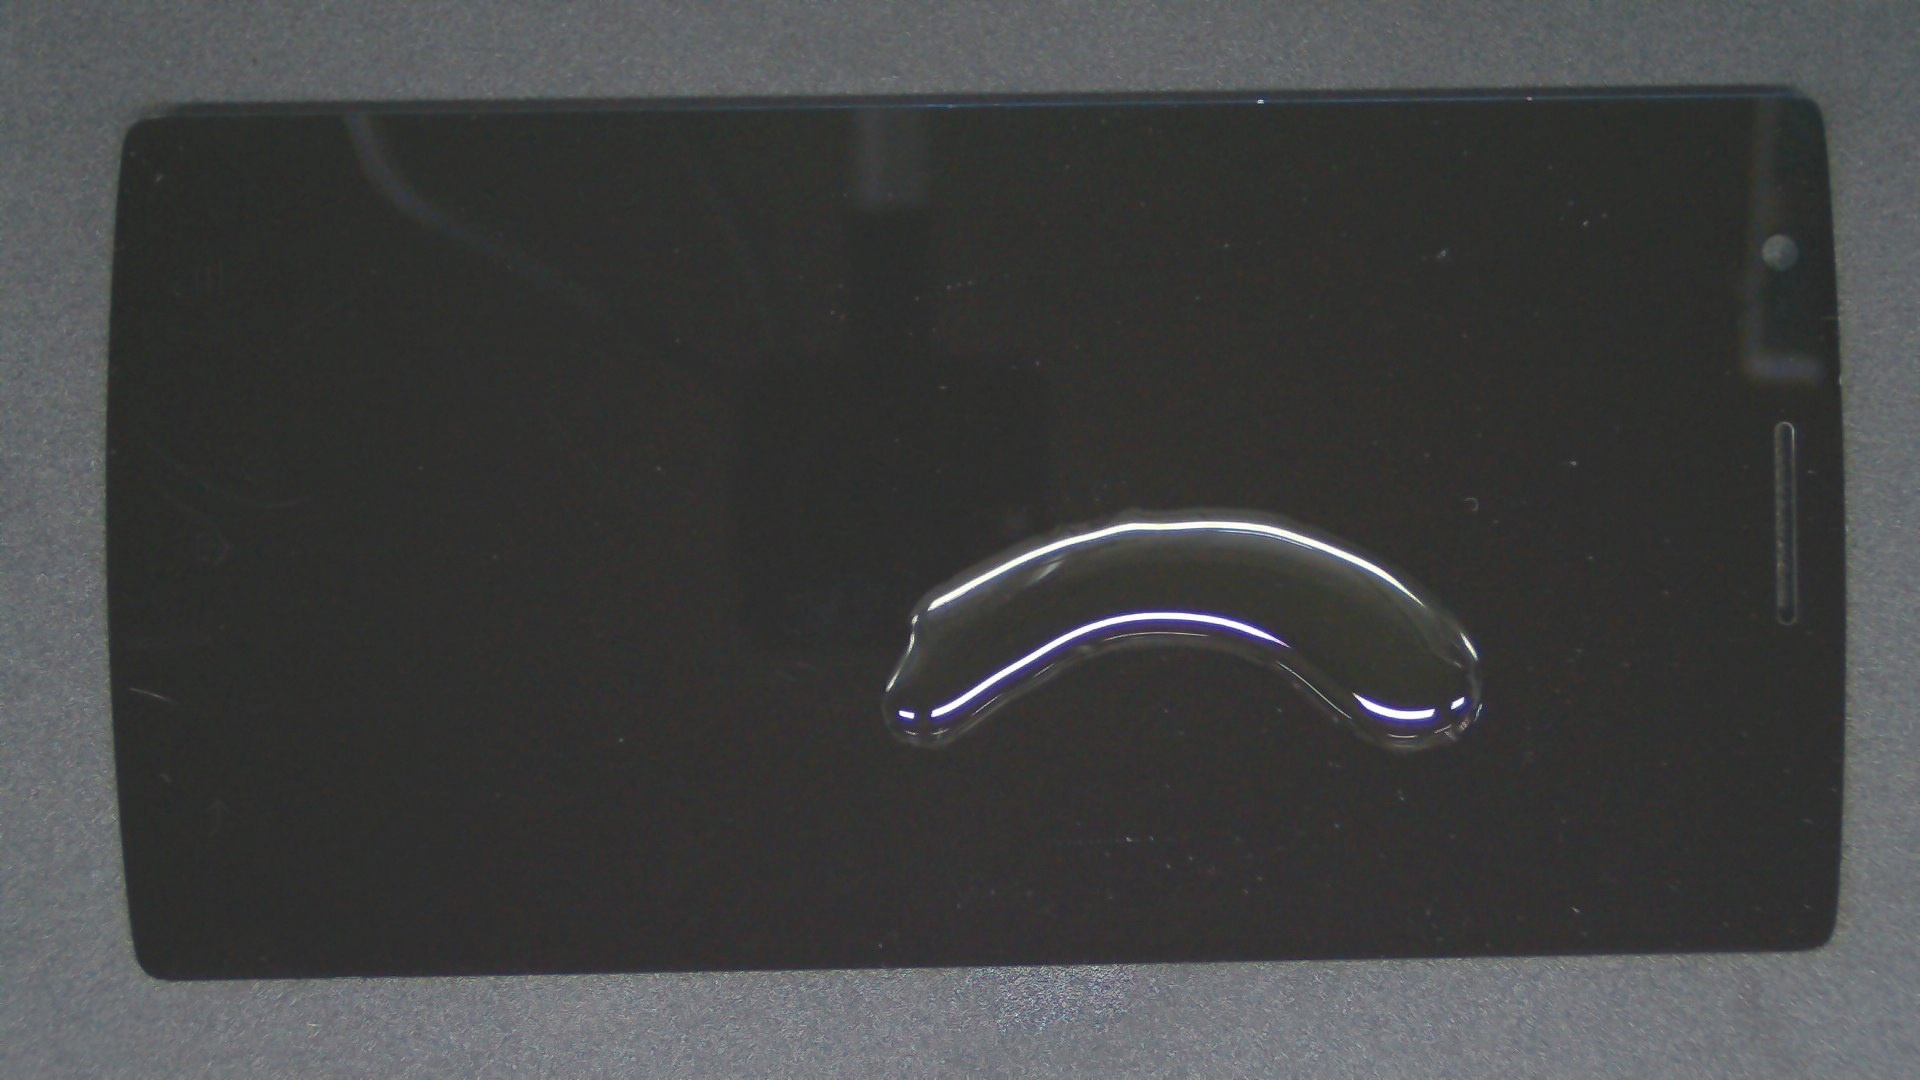oil: (568, 252, 1702, 758)
